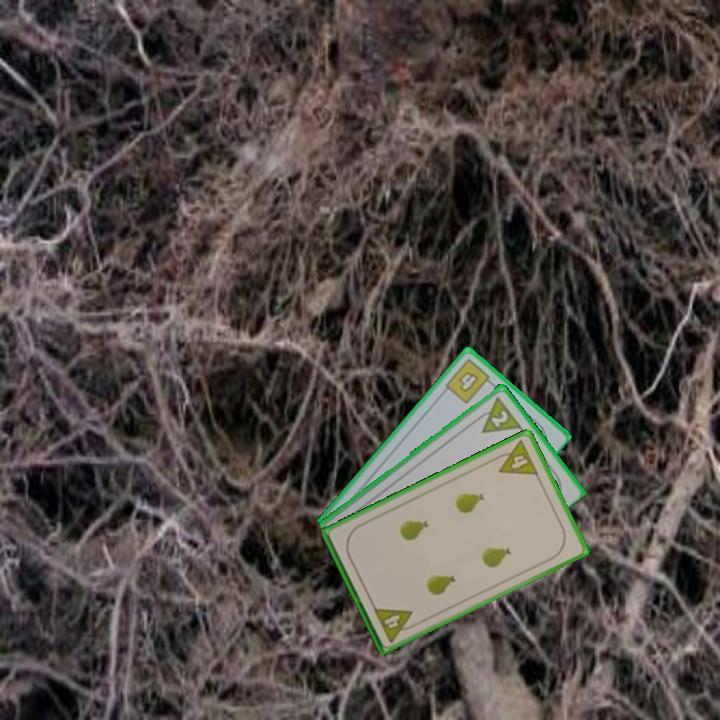2p: (470, 392, 524, 436)
4b: (441, 355, 497, 406)
4p: (489, 437, 541, 478), (370, 603, 420, 645)
